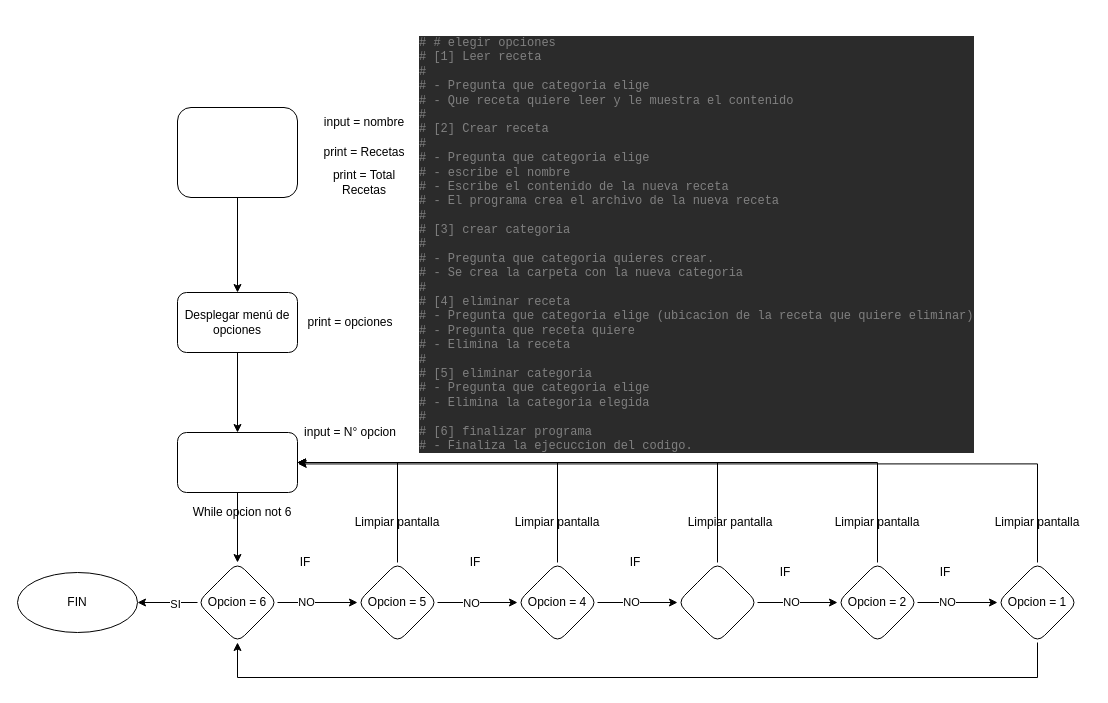
The diagram is 1108 pixels wide and 703 high, and some of its shapes have lost their labels. The shapes that lost their labels are listed below. From the top down, each one's centre as x and y in pixels, then its label:
At pixel 237 152: "Bienvenida usuario, ruta de acceso directorio recetas, total recetas".
At pixel 237 462: "Ingresar la opcion".
At pixel 717 602: "Opcion = 3".
